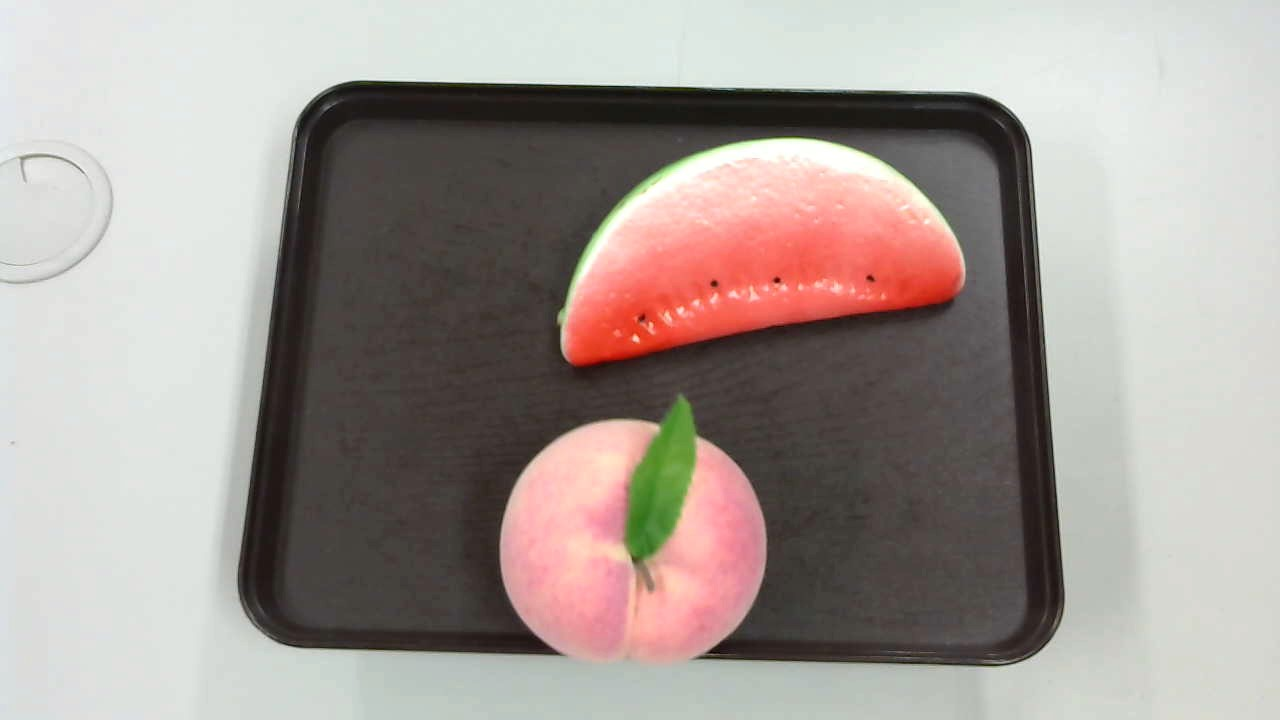peach: (498, 398, 768, 669)
water melon: (556, 135, 973, 362)
